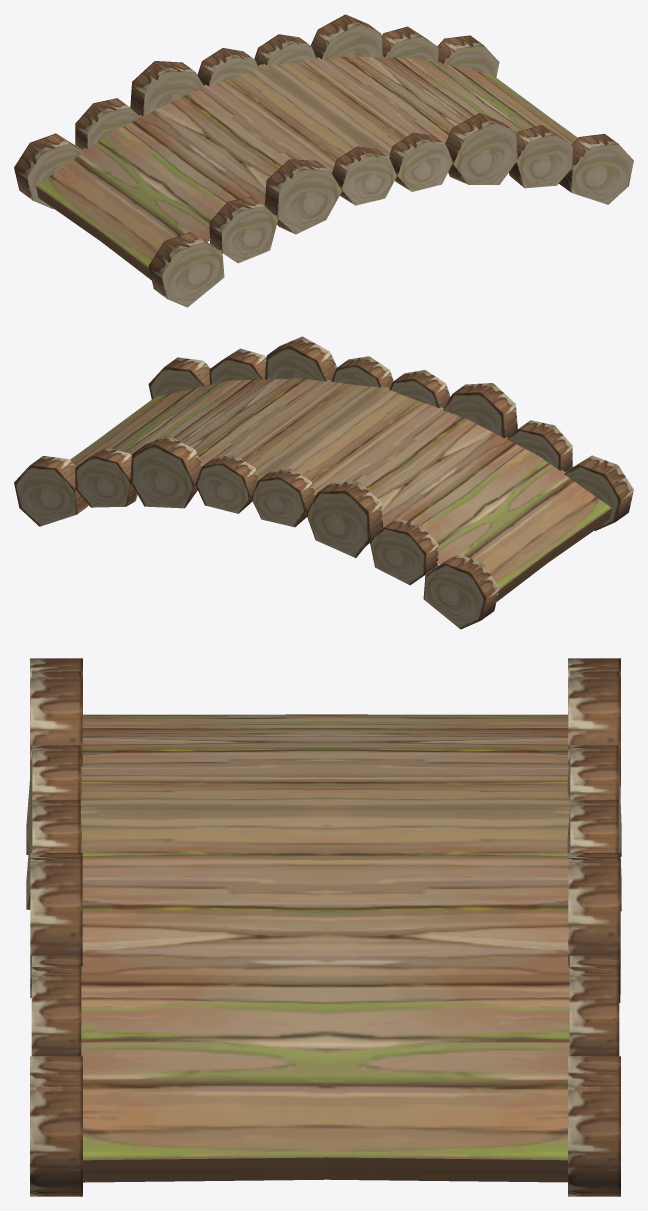
Rendered from Map_05_bridge05.FBX.
3 renders of one model, top to bottom at view 1: azimuth 30°, elevation 25°; view 2: azimuth 150°, elevation 25°; view 3: azimuth 270°, elevation 25°, orthographic. The views are drawn at different scales.
Visible parts, largest first — view 1: Map_05_bridge05; view 2: Map_05_bridge05; view 3: Map_05_bridge05.
Boxes of the visible parts, <box> form: Map_05_bridge05: <box>14,14,633,307</box>; Map_05_bridge05: <box>14,336,633,629</box>; Map_05_bridge05: <box>26,658,621,1196</box>.
Bounding box in the file's own units: 1103 × 247 × 602.
